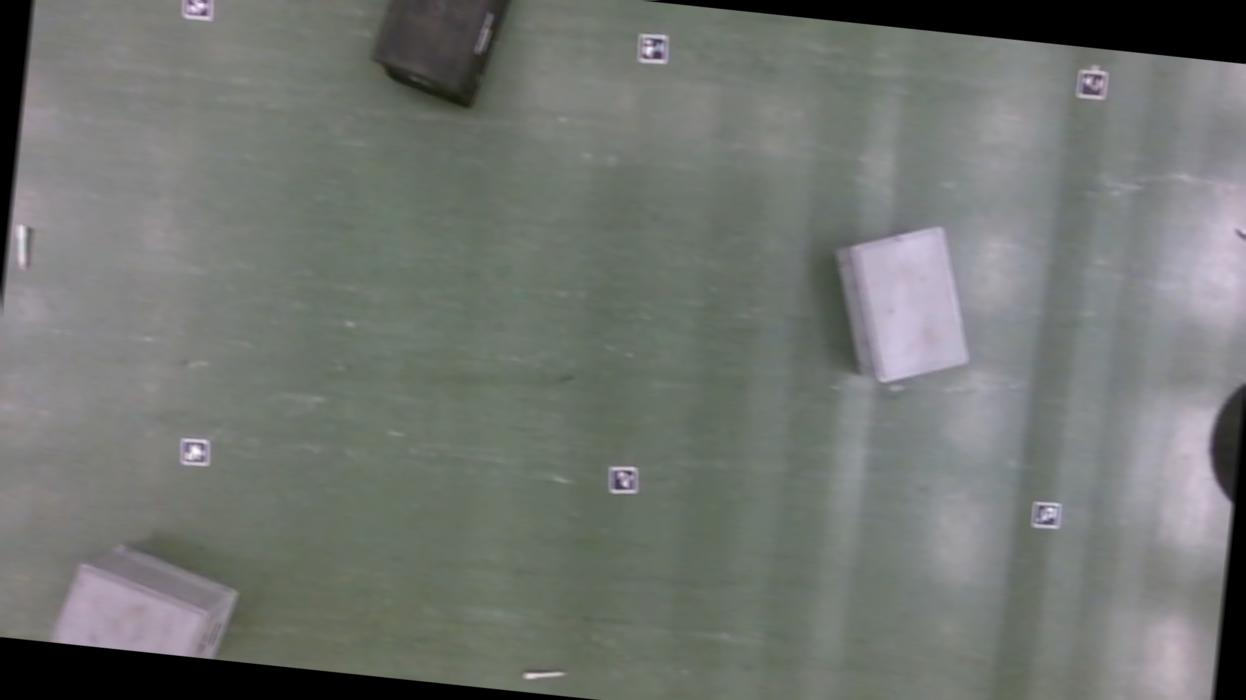probes: (12, 224, 34, 270), (522, 668, 564, 684), (1231, 228, 1246, 260)
rako: (815, 210, 991, 402), (36, 532, 256, 662), (364, 0, 518, 112)
